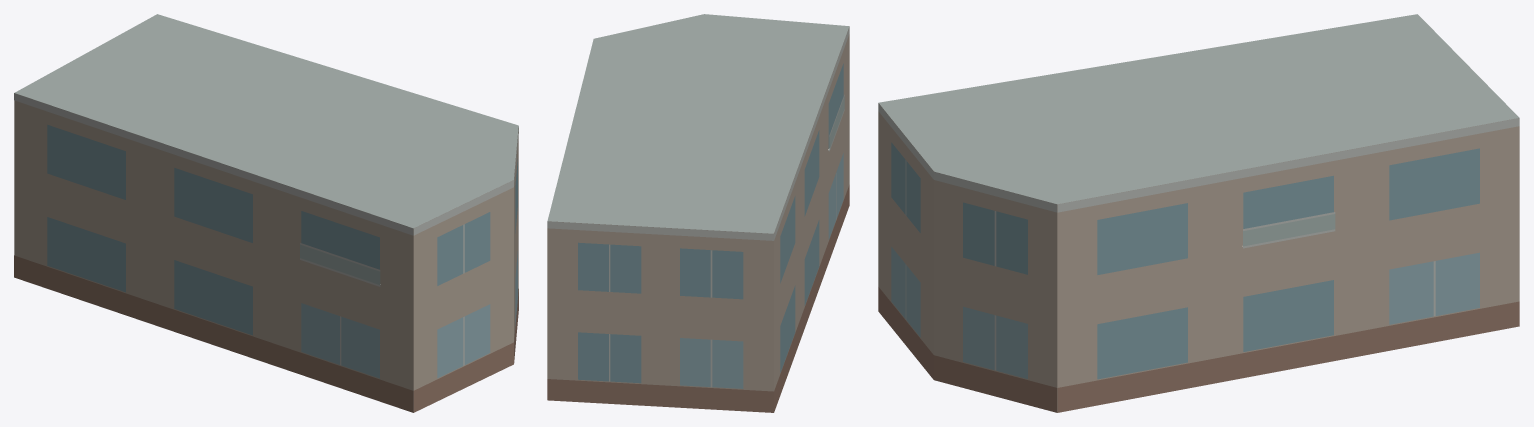
File: survey-upis-32679469.glb
3 views of the same model, side by side, from view 1: azimuth 30°, elevation 25°; view 2: azimuth 150°, elevation 25°; view 3: azimuth 270°, elevation 25° (orthographic). The views are drawn at different scales.
Parts seen in each view (by area): view 1: survey-upis-32679469.tmp; view 2: survey-upis-32679469.tmp; view 3: survey-upis-32679469.tmp.
Part boxes in pixels (x1,y1,x2,y2): survey-upis-32679469.tmp: [14, 14, 518, 412]; survey-upis-32679469.tmp: [547, 14, 849, 412]; survey-upis-32679469.tmp: [878, 14, 1519, 412].
Size of the model in its own units: 11.95 by 6.1 by 17.01.
